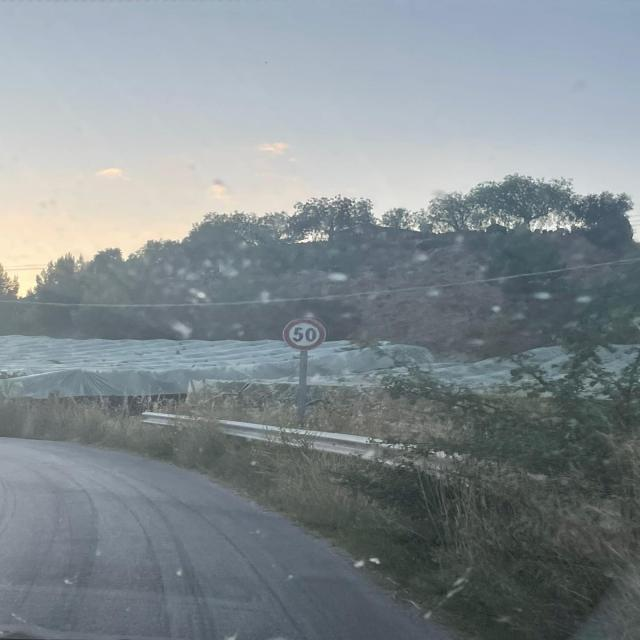forb_speed_over_50: (281, 318, 327, 351)
